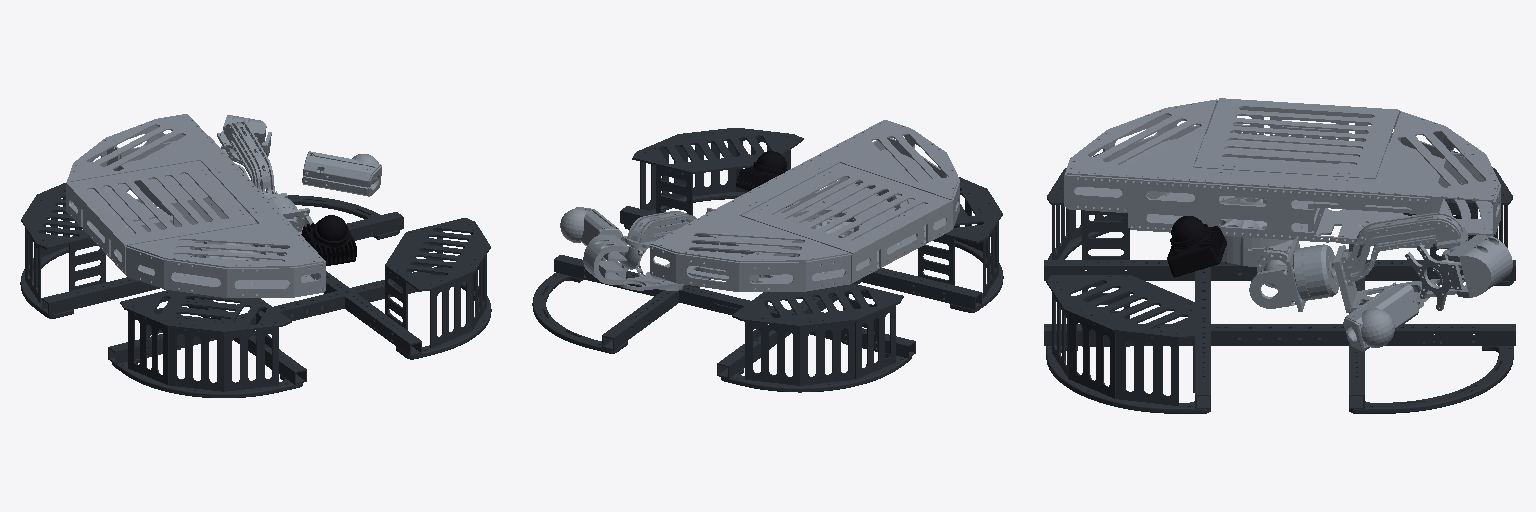
robot.urdf — sentry_2026:
<?xml version="1.0"?>
<!--
  2026 official sentry: static description imported from 哨兵总装_urdf.zip.

  Source: sentry.urdf (SolidWorks export) + 6 mesh/link*.stl.  The source
  model contains only the chassis top plate and the four-axis gimbal stack;
  it has no wheels, so this port keeps the whole assembly rigid and exposes
  only the frames the stack needs:

    base_footprint  ground projection (Nav2 base_frame / slam / small_gicp)
    base_link       CAD `base` frame, chassis body
    gimbal_yaw      renamed from `link1_big_yaw` (Nav2 robot_base_frame,
                    fake_vel_transform, teleop, pursuit controller)
    front_mid360    renamed from `ref_lidar` (Livox frame_id, sensor_frame,
                    loam_interface / small_gicp)

  Frames kept from the export for later sensor work: link2_laser,
  link3_roll, link4_small_yaw, link5_pitch, ref2.

  Geometry facts copied verbatim from the export:
    base -> gimbal_yaw      = (0, 0, 0.0901)
    gimbal_yaw -> front_mid360 (through link2_laser)
                            = (0.06028, -0.11428, 0.11386)
                              rpy = (0.383972, 0, 0)  # pitch 22 deg
    -> lidar is 0.20396 m above the CAD base origin

  Assumption to verify on the real car: the CAD base origin is the ground
  projection.  Evidence: the lidar then sits 0.204 m above the floor, which
  matches the 0.21 m measured on the previous chassis.  If the real mounting
  height differs, change `base_footprint_to_base_link` below - nothing else
  in the TF tree depends on this offset.
-->
<robot name="sentry_2026">

  <material name="chassis_dark"><color rgba="0.22 0.24 0.27 1.0"/></material>
  <material name="gimbal_gray"><color rgba="0.55 0.58 0.62 1.0"/></material>
  <material name="laser_dark"><color rgba="0.10 0.10 0.12 1.0"/></material>

  <!-- Ground projection: keep this name, Nav2/localization use it. -->
  <link name="base_footprint"/>

  <!-- CAD `base`: chassis top plate. -->
  <link name="base_link">
    <visual>
      <origin xyz="-1.288000 0.103120 0.094410" rpy="1.570796 -0.000000 1.570796"/>
      <geometry>
        <mesh filename="package://sentry_description/meshes/sentry_2026/base.stl"
              scale="0.001 0.001 0.001"/>
      </geometry>
      <material name="chassis_dark"/>
    </visual>
  </link>

  <!-- CAD base origin is assumed to be on the floor; edit only this offset
       if the measured mounting height differs. -->
  <joint name="base_footprint_to_base_link" type="fixed">
    <parent link="base_footprint"/>
    <child link="base_link"/>
    <origin xyz="0 0 0" rpy="0 0 0"/>
  </joint>

  <!-- Yaw axis of the gimbal. Kept as a fixed frame: the stack has no
       independent gimbal feedback yet (fake_vel_transform publishes
       gimbal_yaw_fake as identity). -->
  <link name="gimbal_yaw">
    <visual>
      <origin xyz="-1.288000 0.103120 0.004310" rpy="1.570796 -0.000000 1.570796"/>
      <geometry>
        <mesh filename="package://sentry_description/meshes/sentry_2026/link1_big_yaw.stl"
              scale="0.001 0.001 0.001"/>
      </geometry>
      <material name="gimbal_gray"/>
    </visual>
  </link>

  <joint name="joint1_big_yaw" type="fixed">
    <parent link="base_link"/>
    <child link="gimbal_yaw"/>
    <origin xyz="0.000000 0.000000 0.090100" rpy="0 0 0"/>
  </joint>

  <!-- LiDAR bracket, rigidly attached to the yaw link. -->
  <link name="link2_laser">
    <visual>
      <origin xyz="-1.288000 0.103120 0.004310" rpy="1.570796 -0.000000 1.570796"/>
      <geometry>
        <mesh filename="package://sentry_description/meshes/sentry_2026/link2_laser.stl"
              scale="0.001 0.001 0.001"/>
      </geometry>
      <material name="laser_dark"/>
    </visual>
  </link>

  <joint name="joint_laser" type="fixed">
    <parent link="gimbal_yaw"/>
    <child link="link2_laser"/>
    <origin xyz="0 0 0" rpy="0 0 0"/>
  </joint>

  <!-- MID360 frame. `ref_lidar` in the export; the whole stack expects
       front_mid360. Pitch follows the export (22 deg). -->
  <link name="front_mid360"/>
  <joint name="joint_ref_lidar" type="fixed">
    <parent link="link2_laser"/>
    <child link="front_mid360"/>
    <origin xyz="0.060280 -0.114280 0.113860" rpy="0.383972 -0.000000 -0.000000"/>
  </joint>

  <!-- Roll link of the four-axis gimbal. -->
  <link name="link3_roll">
    <visual>
      <origin xyz="-1.318316 0.107696 -0.043840" rpy="1.570796 -0.000000 1.570796"/>
      <geometry>
        <mesh filename="package://sentry_description/meshes/sentry_2026/link3_roll.stl"
              scale="0.001 0.001 0.001"/>
      </geometry>
      <material name="gimbal_gray"/>
    </visual>
  </link>

  <joint name="joint2_roll" type="fixed">
    <parent link="gimbal_yaw"/>
    <child link="link3_roll"/>
    <origin xyz="0.030316 -0.004576 0.048150" rpy="0 0 0"/>
  </joint>

  <!-- Small yaw link. -->
  <link name="link4_small_yaw">
    <visual>
      <origin xyz="-1.350438 0.065737 -0.054959" rpy="1.570796 -0.000000 1.570796"/>
      <geometry>
        <mesh filename="package://sentry_description/meshes/sentry_2026/link4_small_yaw.stl"
              scale="0.001 0.001 0.001"/>
      </geometry>
      <material name="gimbal_gray"/>
    </visual>
  </link>

  <joint name="joint3_small_yaw" type="fixed">
    <parent link="link3_roll"/>
    <child link="link4_small_yaw"/>
    <origin xyz="0.032122 0.041959 0.011120" rpy="0 0 0"/>
  </joint>

  <!-- Pitch link (launcher / camera carrier). -->
  <link name="link5_pitch">
    <visual>
      <origin xyz="-1.379178 -0.124677 -0.059059" rpy="1.570796 -0.000000 1.570796"/>
      <geometry>
        <mesh filename="package://sentry_description/meshes/sentry_2026/link5_pitch.stl"
              scale="0.001 0.001 0.001"/>
      </geometry>
      <material name="gimbal_gray"/>
    </visual>
  </link>

  <joint name="joint4_pitch" type="fixed">
    <parent link="link4_small_yaw"/>
    <child link="link5_pitch"/>
    <origin xyz="0.028740 0.190414 0.004099" rpy="0 0 0"/>
  </joint>

  <!-- Interface frame from the export, left for future sensors. -->
  <link name="ref2"/>
  <joint name="joint_ref2" type="fixed">
    <parent link="base_link"/>
    <child link="ref2"/>
    <origin xyz="-0.000000 0.000000 0.064900" rpy="1.570796 -0.000000 -0.000000"/>
  </joint>

  <!-- The DM-MC02 board IMU mount is not measured yet; usb_bridge publishes
       /imu/data in this frame. Keep it at the chassis origin. -->
  <link name="imu_link"/>
  <joint name="imu_link_joint" type="fixed">
    <parent link="base_link"/>
    <child link="imu_link"/>
    <origin xyz="0 0 0" rpy="0 0 0"/>
  </joint>

</robot>

--- Facts derived from the render (not from the file) ---
3 views of the same robot in one strip: view 1: azimuth 30°, elevation 25°; view 2: azimuth 150°, elevation 25°; view 3: azimuth 270°, elevation 25° (orthographic).
Model sentry_2026 with 10 links and 9 joints (9 fixed), rooted at base_footprint, posed every joint at zero.
Links seen in each view (by area): view 1: base_link, gimbal_yaw, link5_pitch, link4_small_yaw, link2_laser, link3_roll; view 2: base_link, gimbal_yaw, link5_pitch, link4_small_yaw, link2_laser; view 3: gimbal_yaw, base_link, link5_pitch, link4_small_yaw, link3_roll, link2_laser.
Link boxes in pixels (bbox=[...]): base_link: bbox=[20, 183, 491, 397]; gimbal_yaw: bbox=[66, 114, 325, 297]; link5_pitch: bbox=[220, 115, 381, 196]; link4_small_yaw: bbox=[217, 121, 287, 198]; link2_laser: bbox=[301, 215, 356, 265]; link3_roll: bbox=[268, 197, 313, 254]; base_link: bbox=[532, 128, 1003, 392]; gimbal_yaw: bbox=[650, 120, 959, 291]; link5_pitch: bbox=[560, 207, 647, 284]; link4_small_yaw: bbox=[619, 211, 708, 290]; link2_laser: bbox=[736, 151, 787, 190]; gimbal_yaw: bbox=[1064, 98, 1500, 266]; base_link: bbox=[1044, 151, 1515, 413]; link5_pitch: bbox=[1343, 234, 1512, 351]; link4_small_yaw: bbox=[1333, 212, 1468, 312]; link3_roll: bbox=[1249, 238, 1338, 311]; link2_laser: bbox=[1167, 216, 1226, 277].
Size in the robot's own frame: 0.59 by 0.59 by 0.178 metres.
Meshes: 6 distinct files referenced, 6 mesh visuals loaded (6 binary STL).
